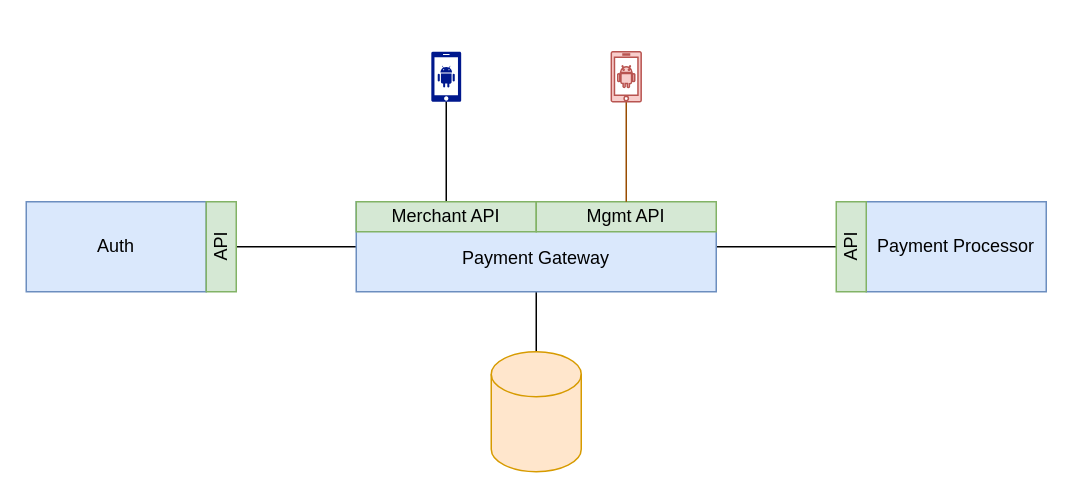
Some shapes in this 1073 by 498 pixel diagram are drawn without their labels. The box of each missing label's shape, as (x1, y1, x2, y2) in pixels:
Admin: (610, 50, 641, 102)
Merchant: (430, 51, 460, 101)
MySQL: (490, 350, 581, 472)
